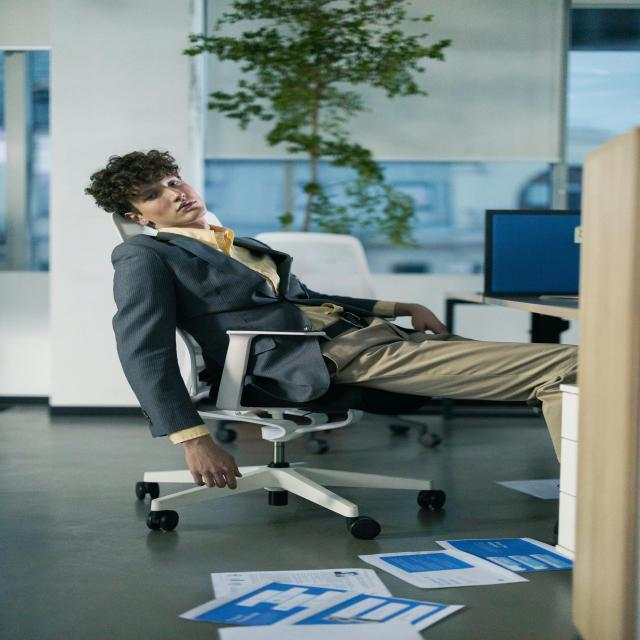sit: (68, 147, 574, 432)
